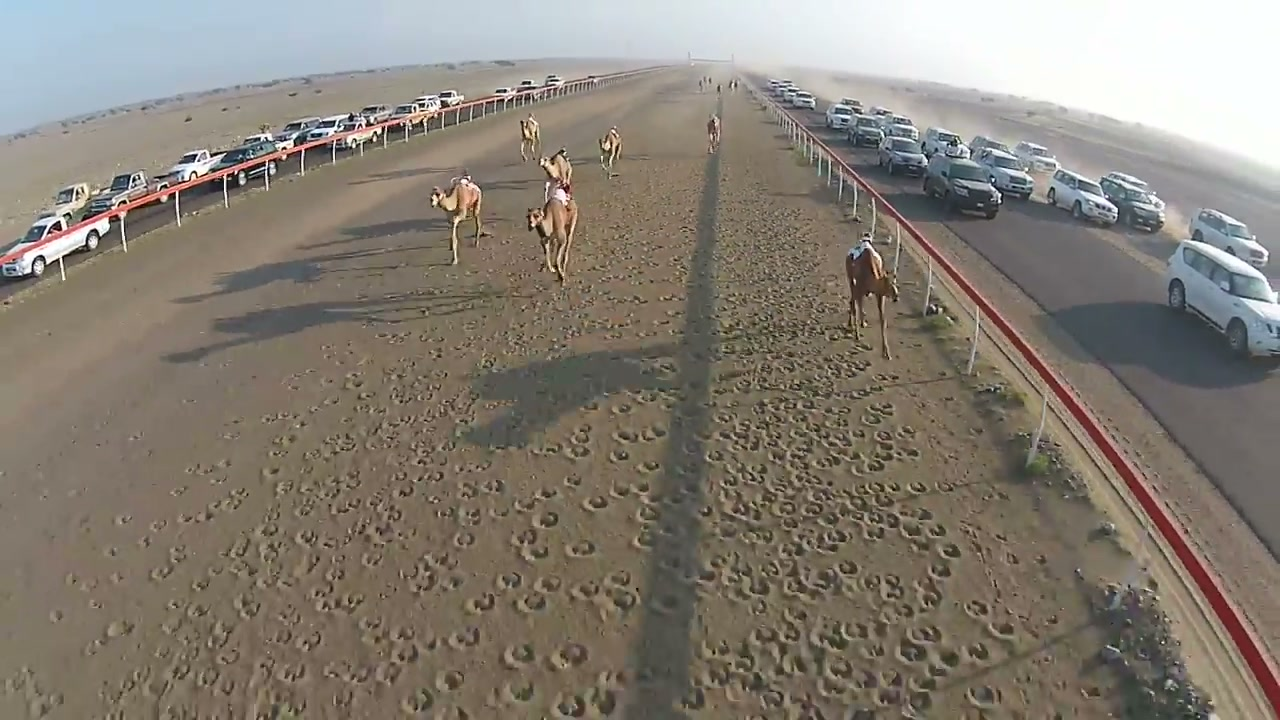animal_foot_print: (0, 103, 1119, 718)
